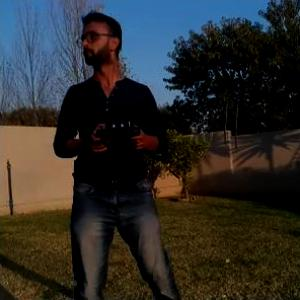follow: (49, 8, 189, 299)
